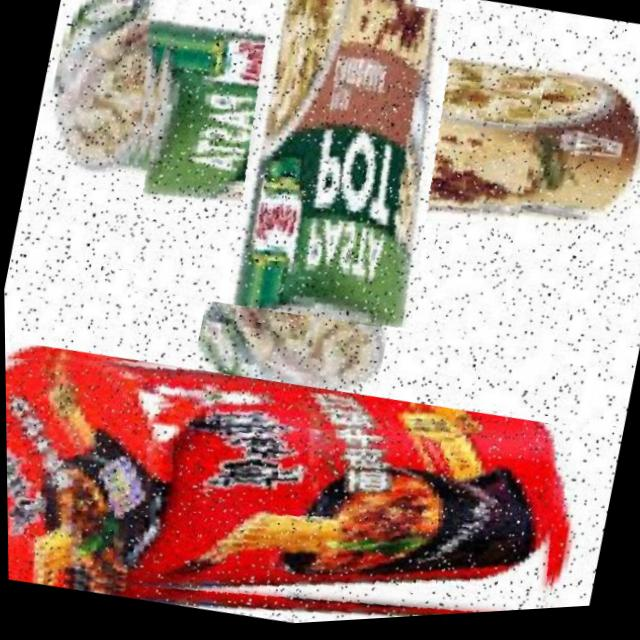Miscellaneous: (3, 309, 580, 640), (95, 0, 561, 368)
